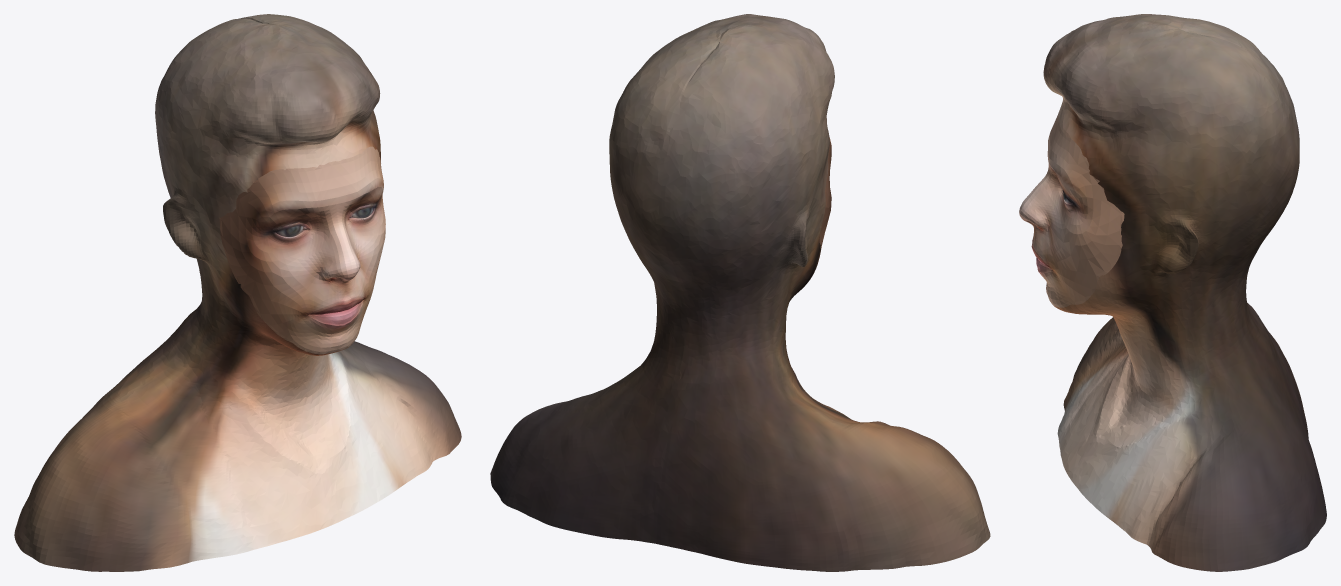
Rendered from AvinashBody.obj.
3 views of the same model, side by side, from view 1: azimuth 30°, elevation 25°; view 2: azimuth 150°, elevation 25°; view 3: azimuth 270°, elevation 25° (orthographic). The views are drawn at different scales.
Size of the model in its own units: 0.4121 by 0.4006 by 0.2478.
